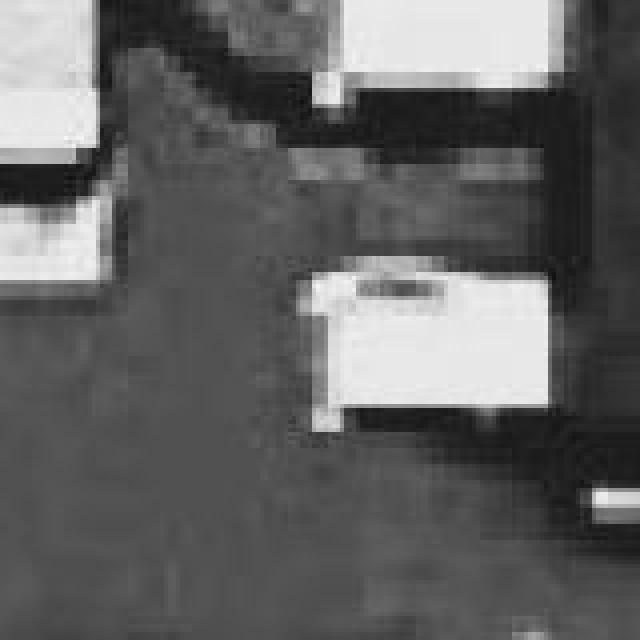IC: (396, 0, 640, 568)
capacitor: (0, 0, 108, 188)
